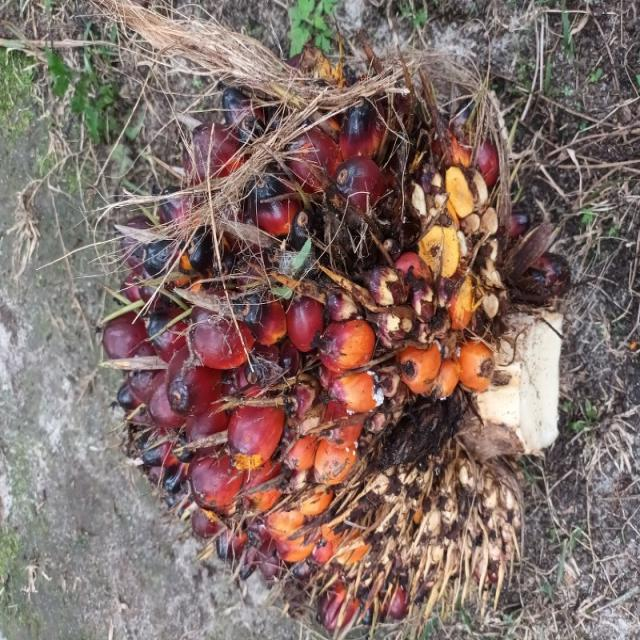fraksi 1: (13, 68, 422, 640)
